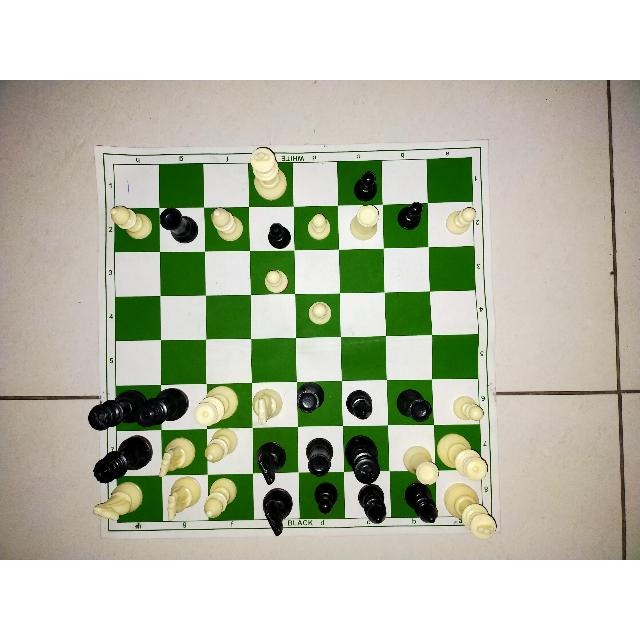black-bishop: (343, 384, 386, 423), (394, 480, 433, 516), (355, 481, 387, 516)
black-king: (347, 428, 385, 470), (117, 388, 145, 429)
black-knight: (252, 434, 294, 474), (259, 480, 295, 520)
black-pawn: (336, 162, 380, 203), (389, 206, 425, 245), (253, 212, 291, 248), (303, 479, 339, 512)
black-queen: (115, 436, 152, 468), (160, 388, 191, 424)
black-rook: (161, 208, 205, 255), (389, 382, 430, 425), (299, 382, 338, 426), (303, 434, 337, 474)
white-bishop: (107, 202, 154, 246), (199, 424, 243, 468), (200, 474, 240, 521), (205, 207, 247, 250), (114, 209, 158, 248), (207, 430, 242, 467), (216, 475, 248, 514)
white-king: (440, 475, 503, 544), (243, 144, 290, 206), (251, 165, 291, 209), (442, 472, 483, 511)
white-knight: (87, 477, 148, 530), (154, 432, 200, 484), (156, 476, 203, 526), (165, 431, 201, 478), (162, 479, 203, 519), (124, 478, 162, 521), (253, 385, 291, 425)
white-pawn: (438, 381, 482, 424), (298, 207, 340, 249), (432, 207, 473, 249), (256, 253, 297, 295), (299, 301, 340, 339), (440, 201, 478, 241)
white-queen: (434, 425, 492, 482), (189, 380, 249, 432), (207, 382, 250, 430), (437, 428, 481, 466)
white-rook: (397, 441, 440, 488), (392, 429, 434, 472), (345, 200, 385, 243), (343, 210, 376, 246)
